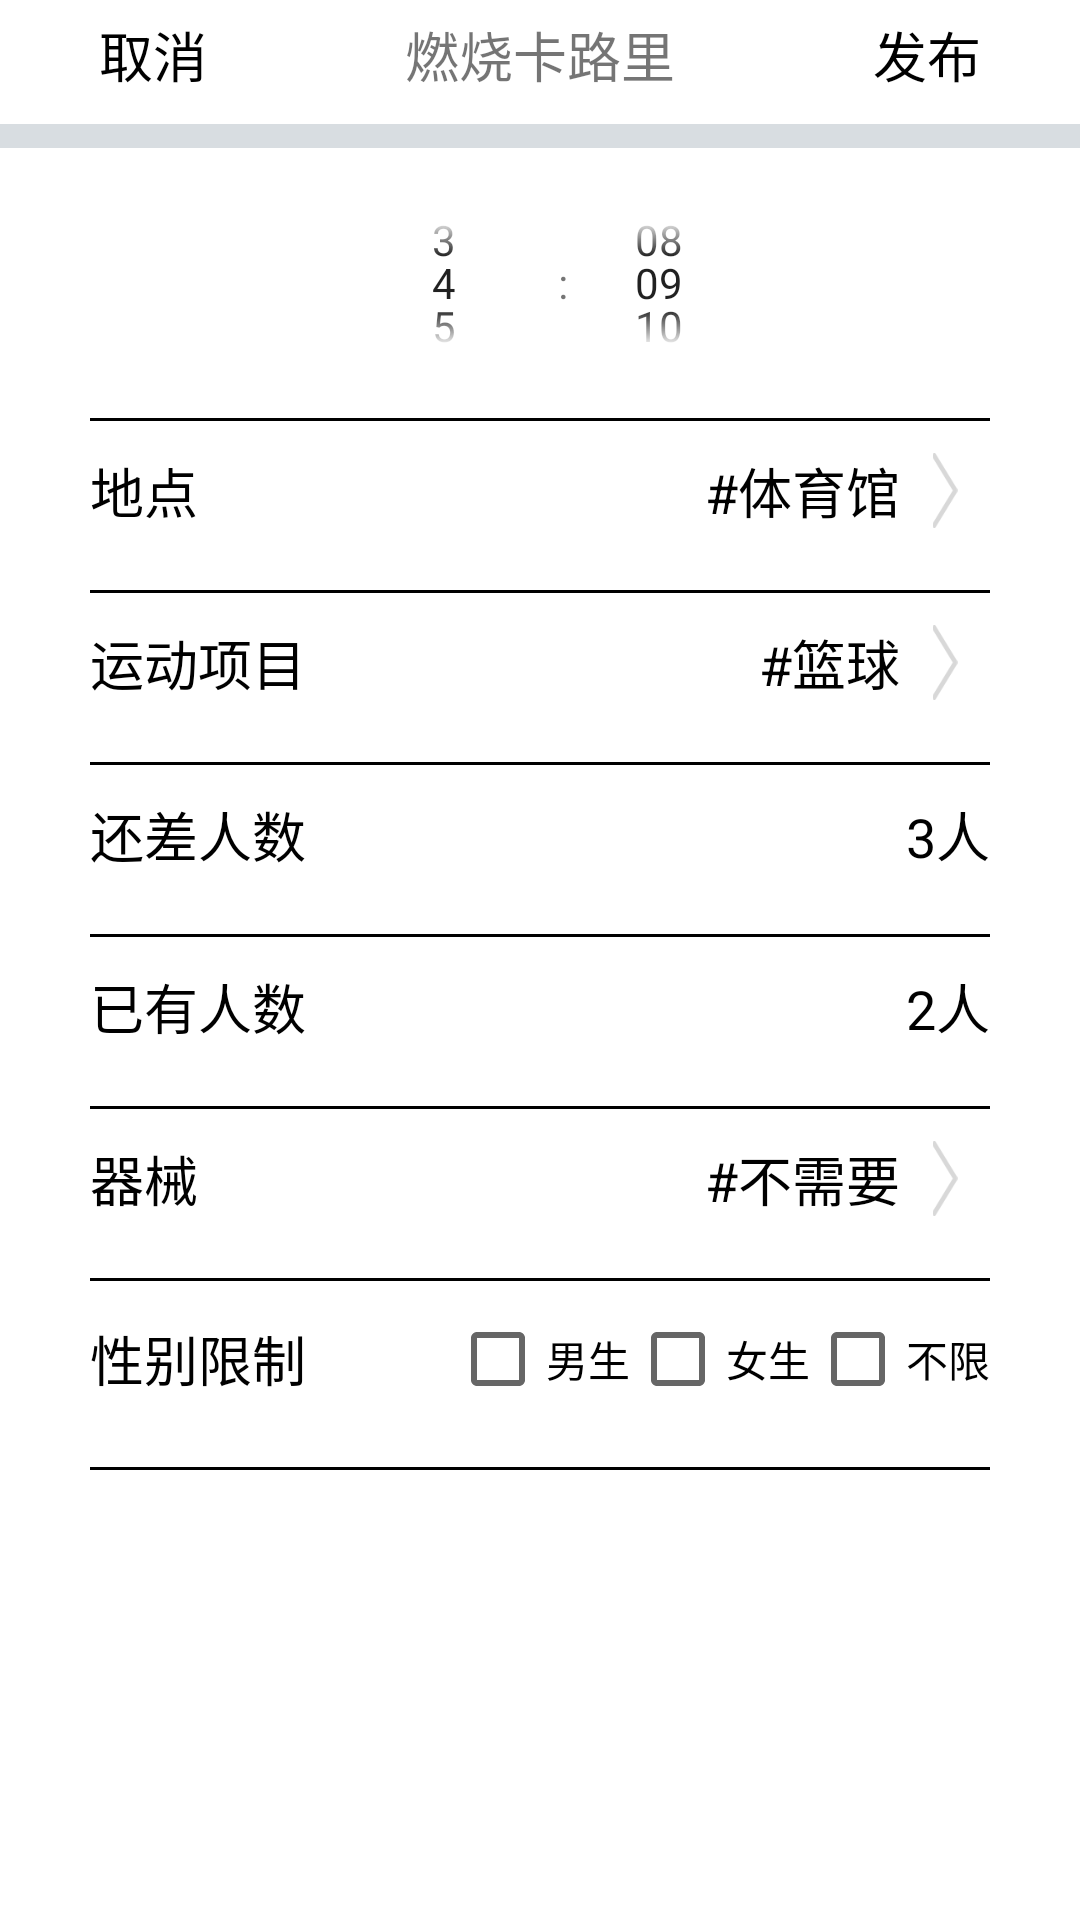

Icons on this 1080 x 1920 Android screen, each with the point to tap as point (x, y):
look partner more right: point (945, 490), point (945, 662), point (945, 1178)
